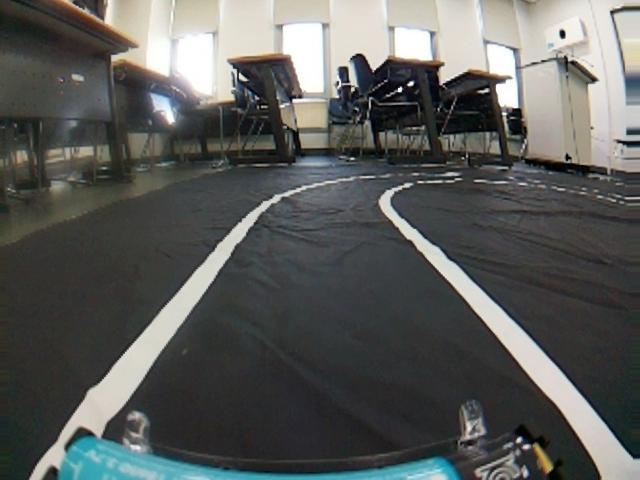straight: (5, 220, 640, 480)
